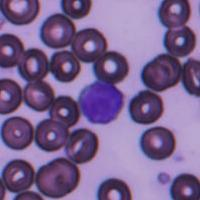L: (80, 81, 124, 125)
